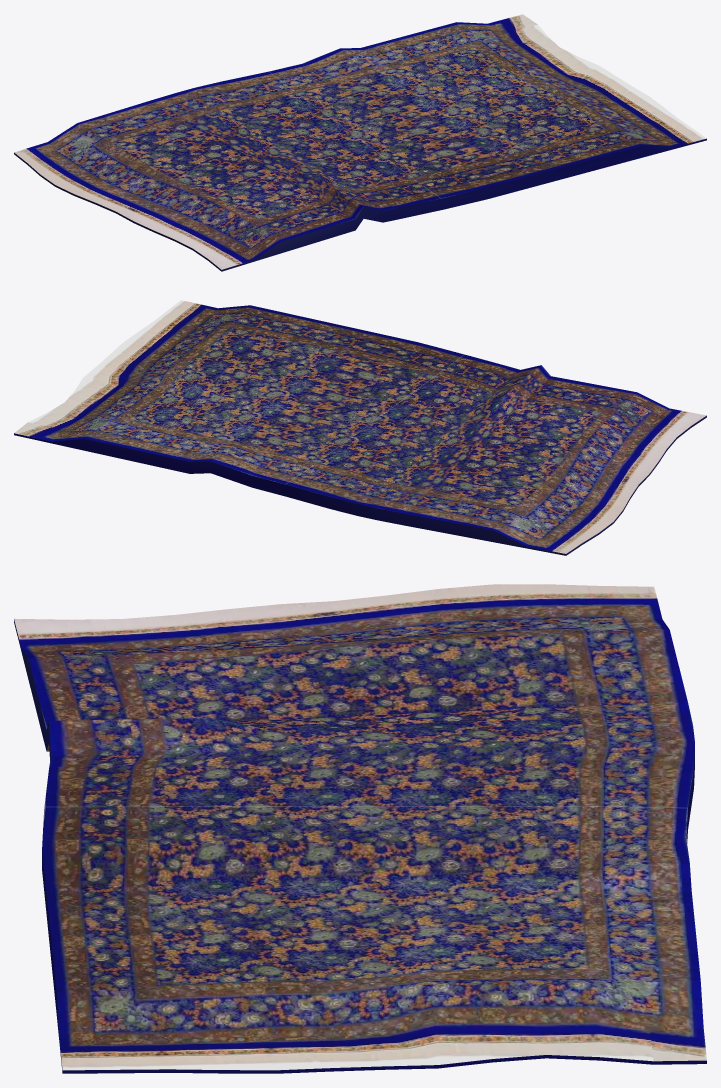
File: carpet.fbx
3 renders of one model, top to bottom at view 1: azimuth 30°, elevation 25°; view 2: azimuth 150°, elevation 25°; view 3: azimuth 270°, elevation 25°, orthographic. The views are drawn at different scales.
Parts seen in each view (by area): view 1: Cube; view 2: Cube; view 3: Cube.
Boxes of the visible parts, x1,y1,x2,y2 form: Cube: (14, 14, 706, 271); Cube: (14, 300, 706, 555); Cube: (14, 584, 706, 1073).
Size of the model in its own units: 357 by 13.22 by 215.
